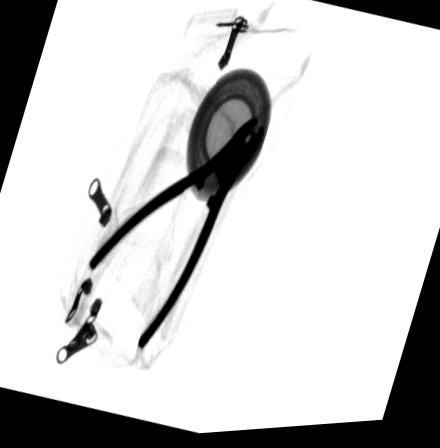Pliers: (87, 116, 265, 352)
